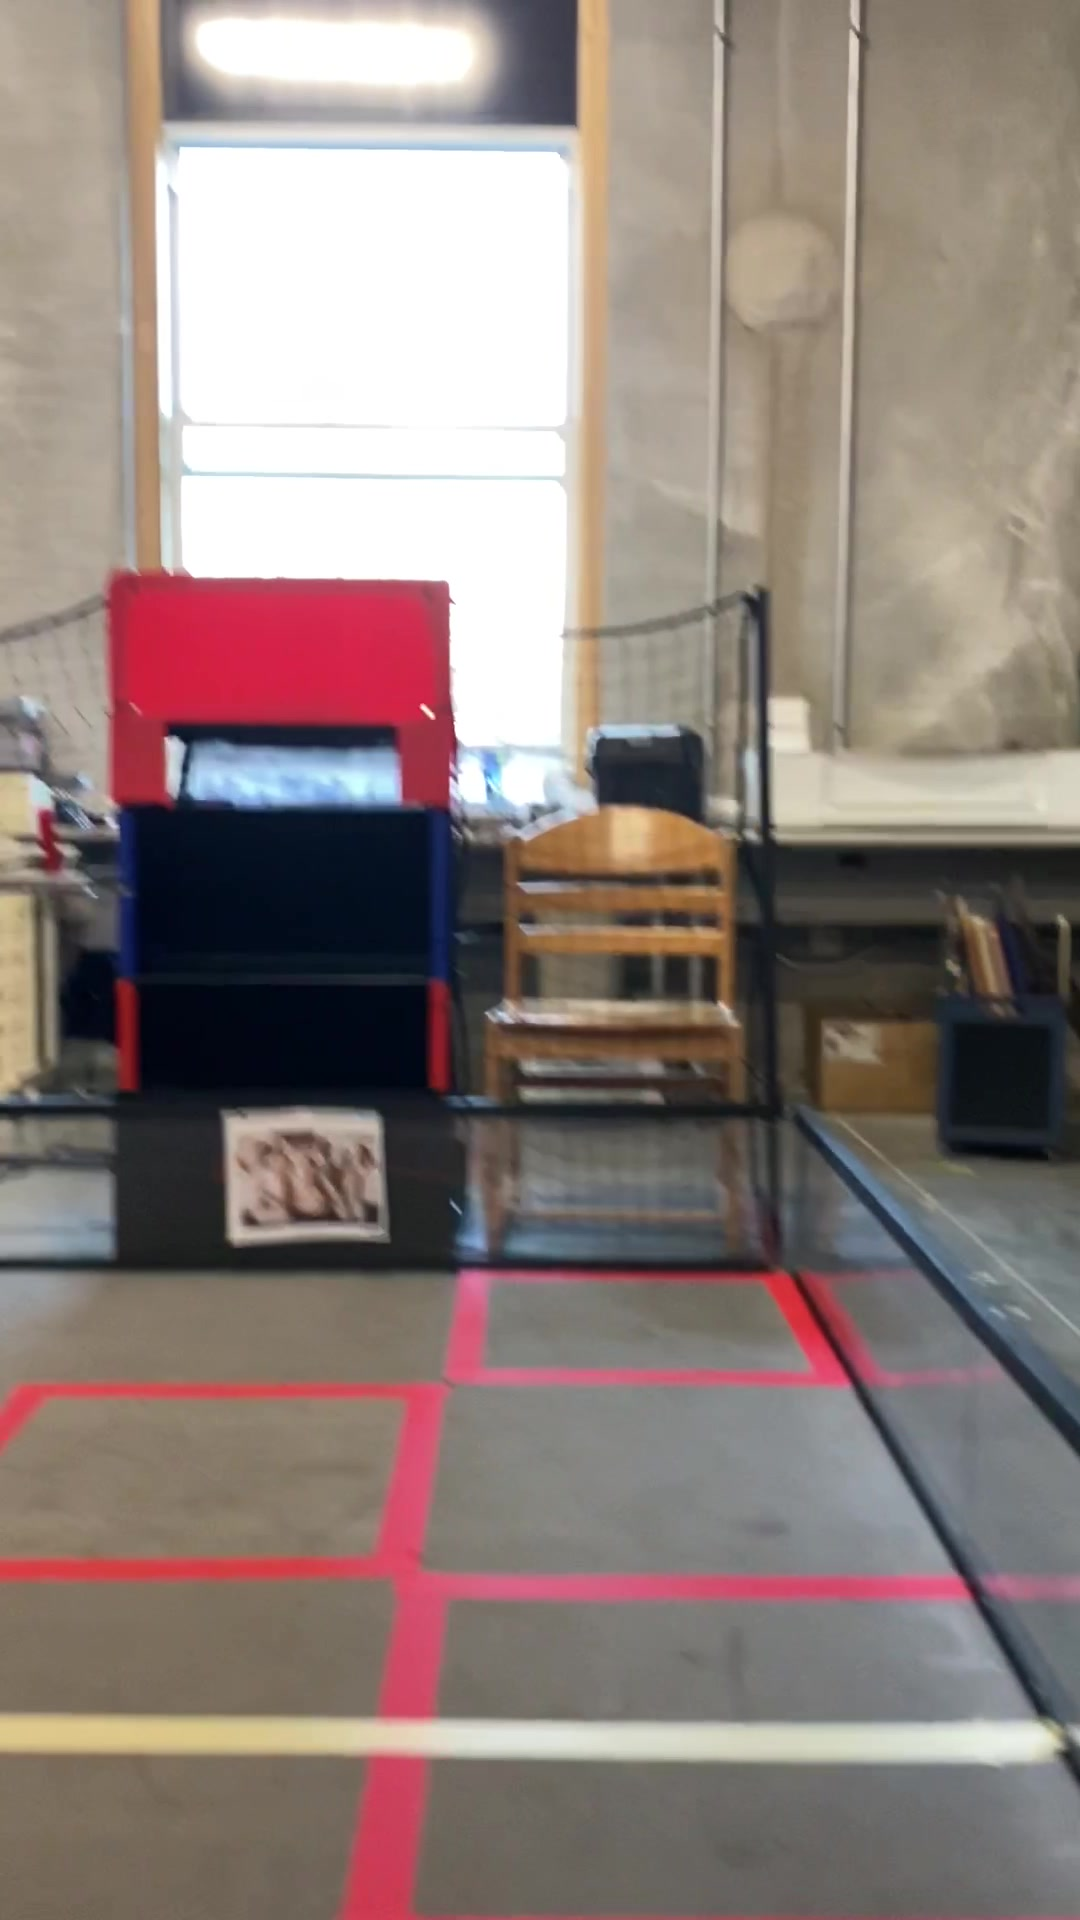high_goal: (161, 723, 404, 806)
